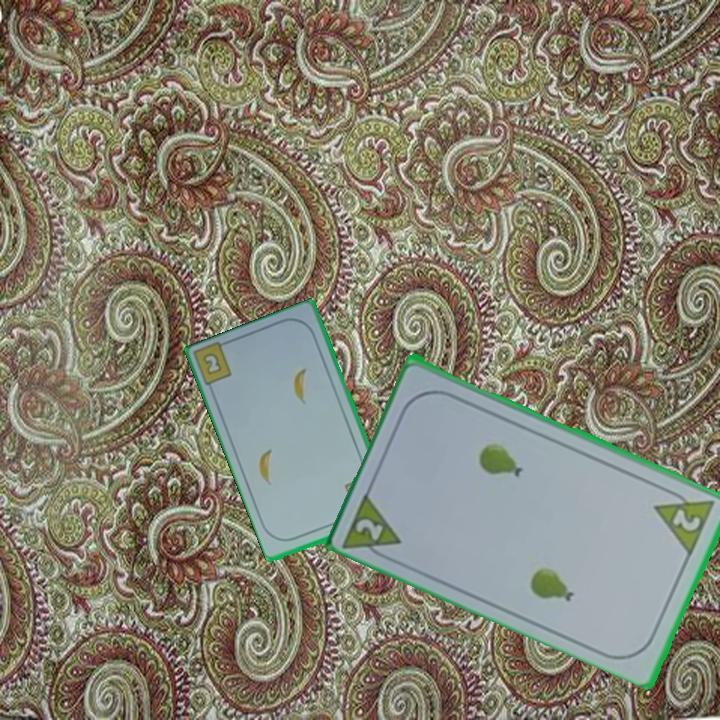2b: (199, 349, 225, 378)
2p: (651, 483, 719, 556), (352, 514, 387, 543)
